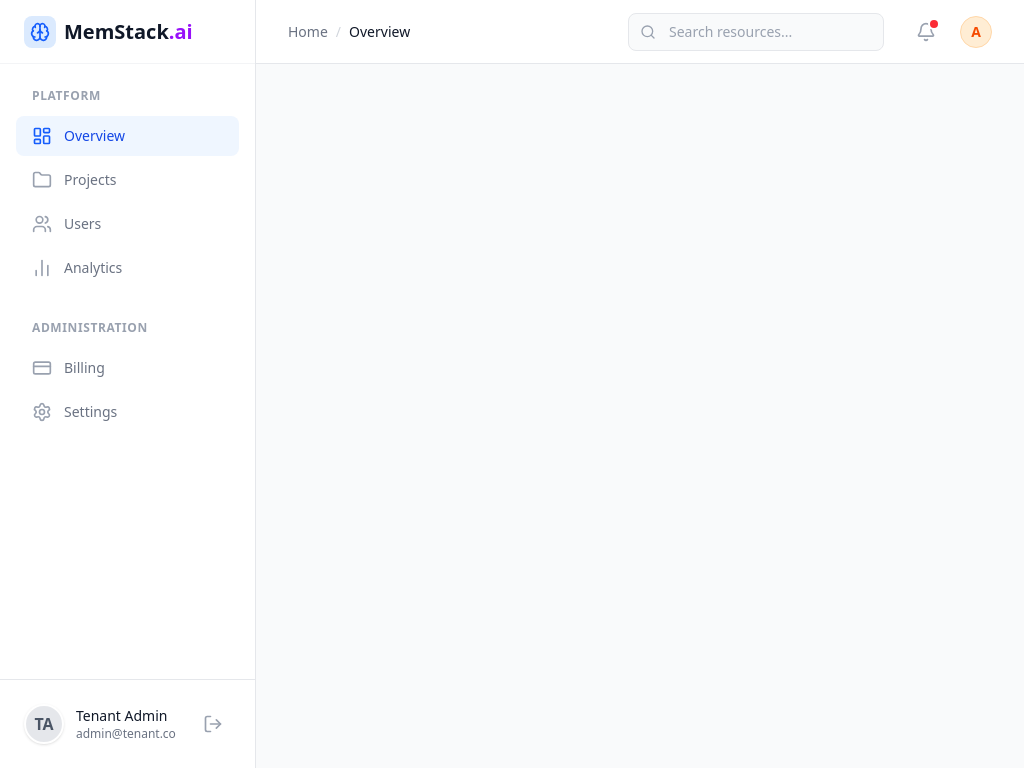
Scenario: SpaceDashboard › should render project list
The image size is (1024, 768).
# Switch to Projects tab
Click the button "Projects" at (128, 180), box [16,160,239,200]
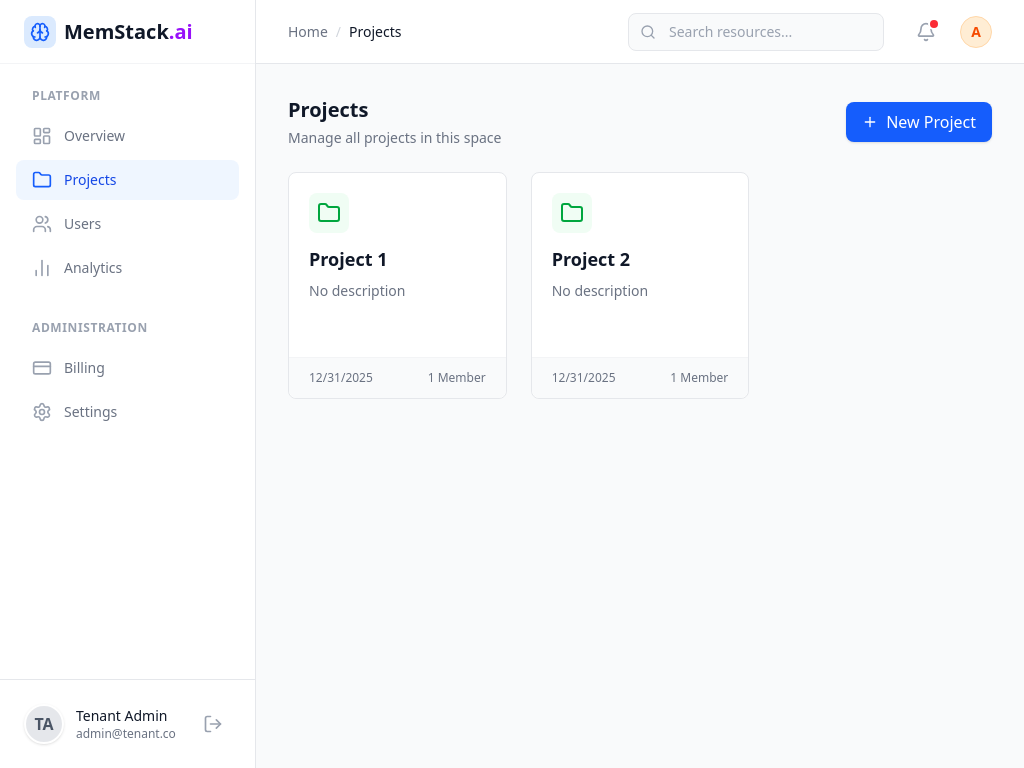
Now the heading "Project 1" is shown, box [309,247,387,271]
Now the heading "Project 2" is shown, box [552,247,630,271]
